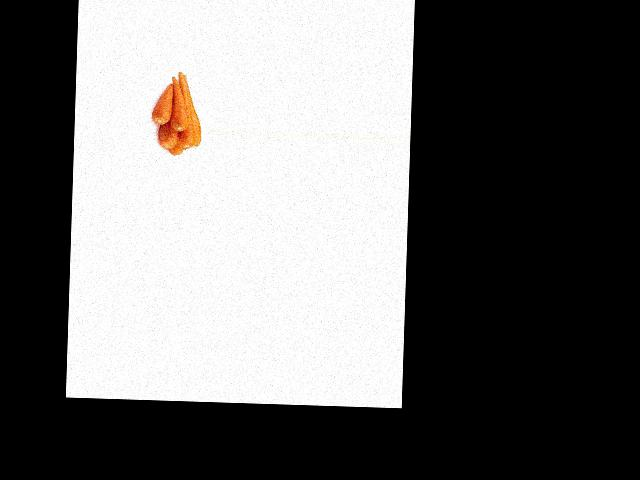carrot: (150, 79, 174, 125)
